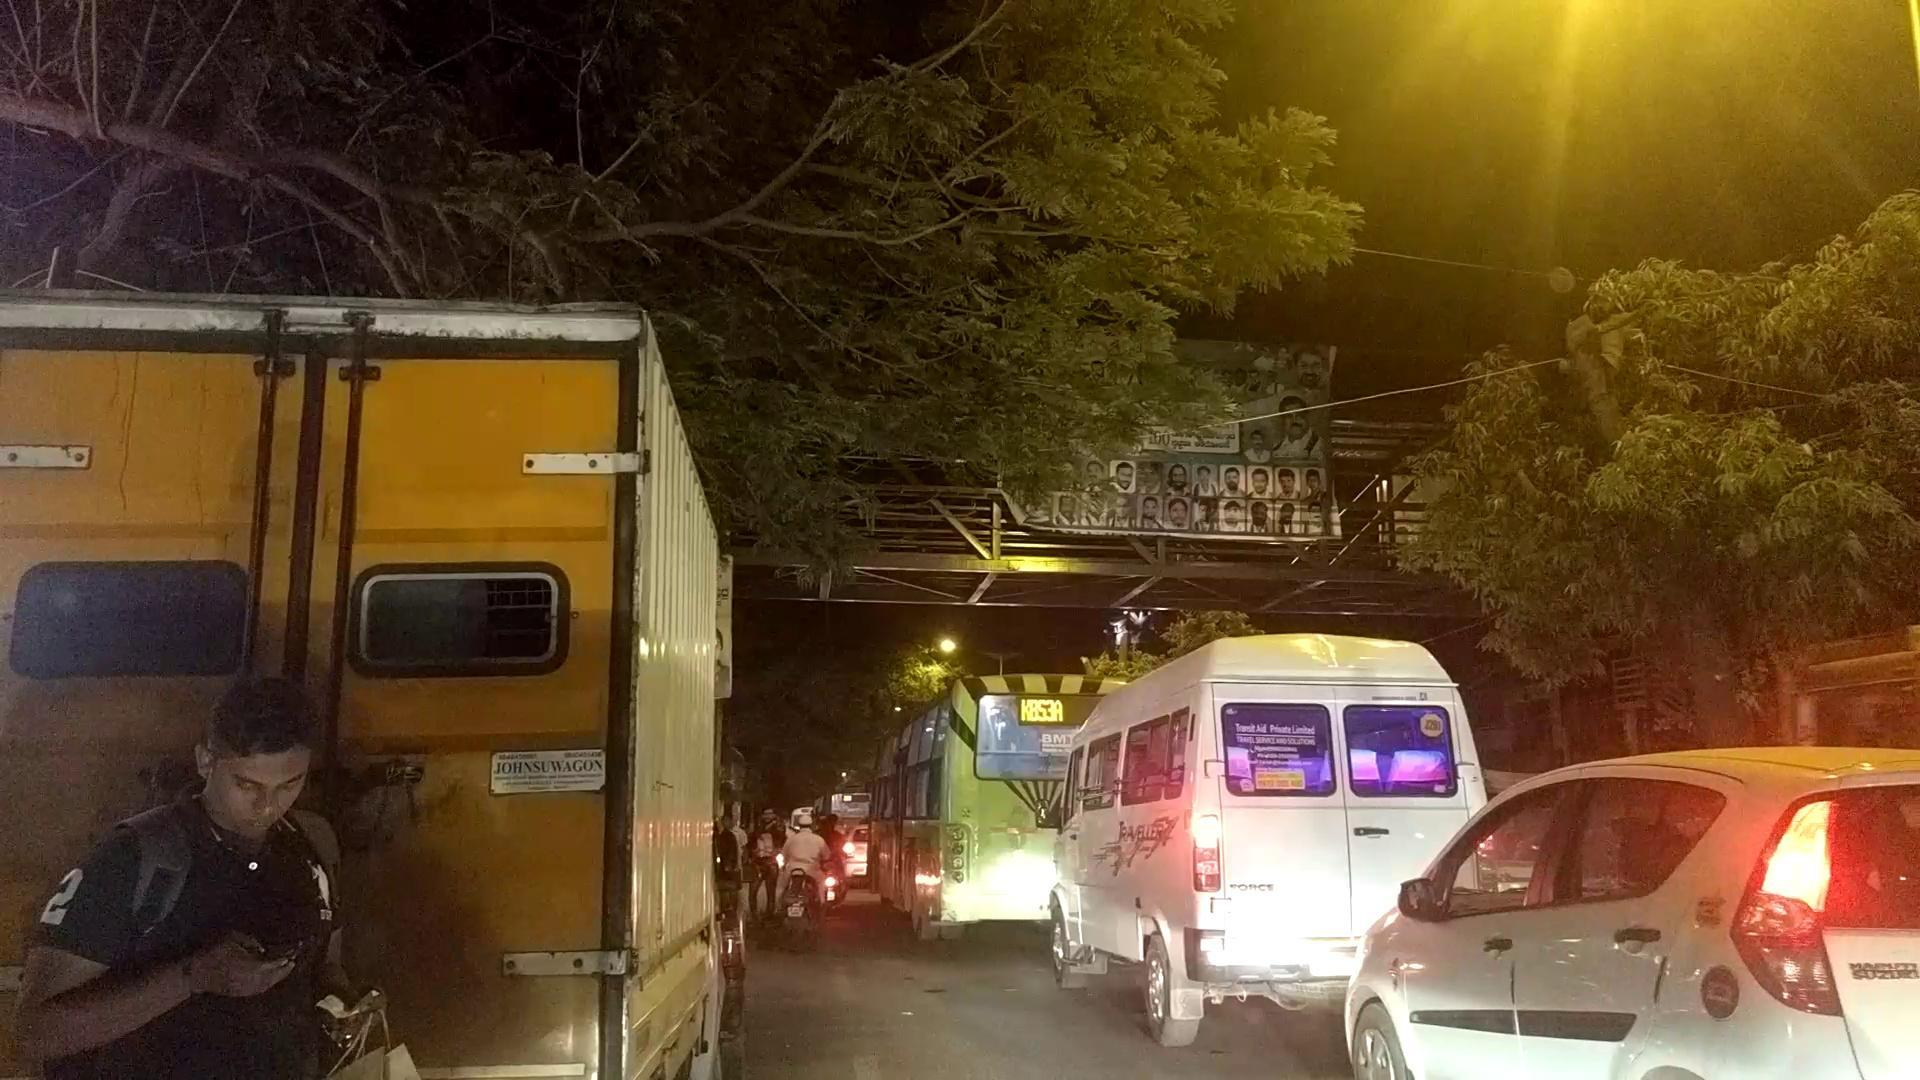on: (0, 82, 1655, 1080)
